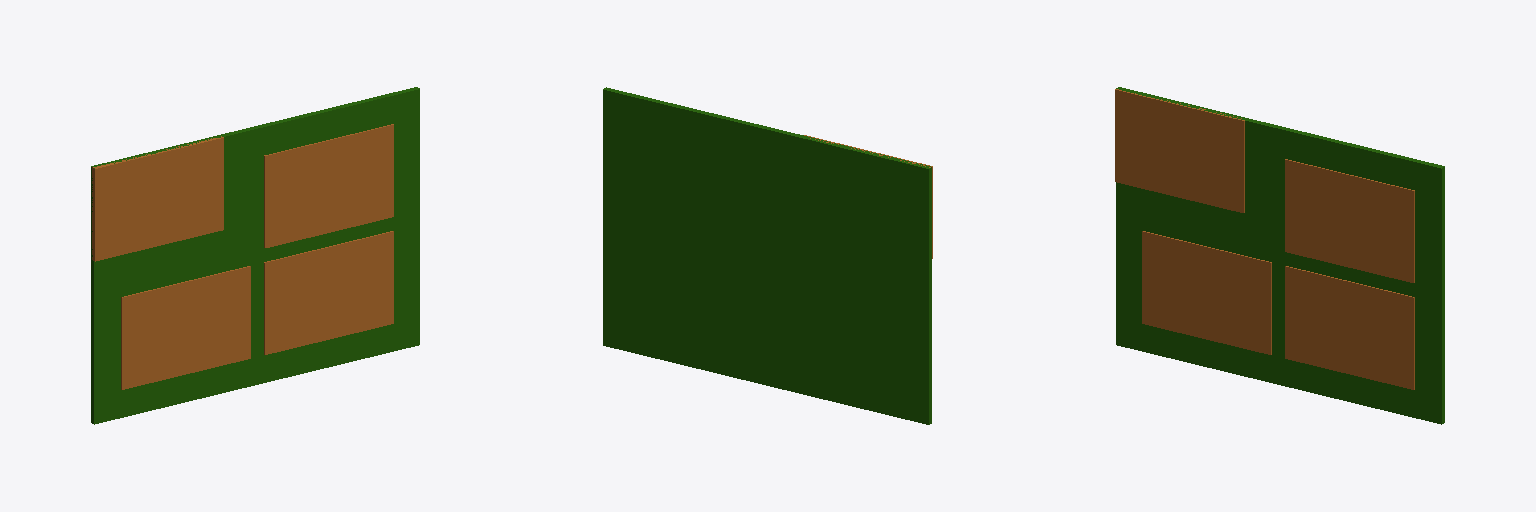
File: TestPCBA.obj
3 views of the same model, side by side, from view 1: azimuth 30°, elevation 25°; view 2: azimuth 150°, elevation 25°; view 3: azimuth 330°, elevation 25° (orthographic).
Parts seen in each view (by area): view 1: Base, Pad 1, Pad 3, Part 4, Pad 2; view 2: Base; view 3: Base, Pad 1, Pad 2, Pad 3, Part 4.
Boxes of the visible parts, <box> form: Base: <box>91,87,419,424</box>; Pad 1: <box>92,136,223,261</box>; Pad 3: <box>264,231,393,354</box>; Part 4: <box>264,124,393,247</box>; Pad 2: <box>121,266,250,389</box>; Base: <box>603,87,931,424</box>; Base: <box>1116,87,1444,424</box>; Pad 1: <box>1115,89,1244,212</box>; Pad 2: <box>1142,231,1271,354</box>; Pad 3: <box>1285,266,1414,389</box>; Part 4: <box>1285,159,1414,282</box>.
Size of the model in its own units: 305 by 229 by 6.35.